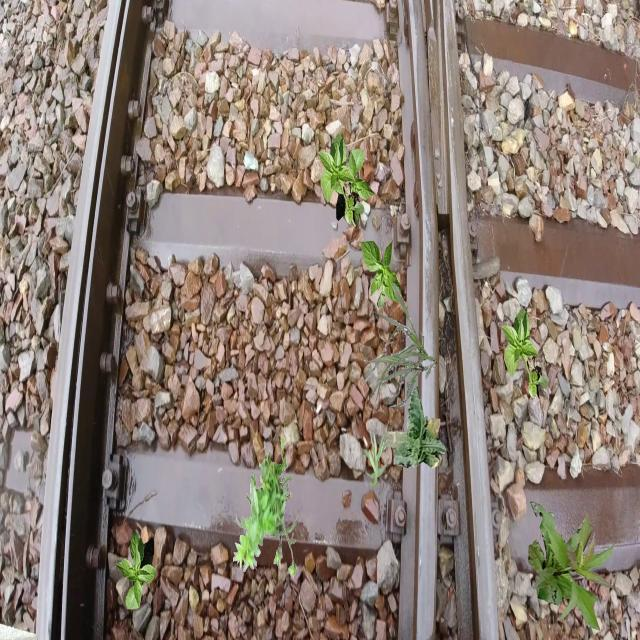Plant: (528, 501, 616, 631), (233, 436, 298, 580), (364, 283, 437, 408), (383, 386, 446, 469), (317, 133, 365, 228), (501, 307, 549, 402), (334, 149, 376, 229), (115, 530, 157, 610), (361, 239, 402, 310), (364, 431, 391, 488)
